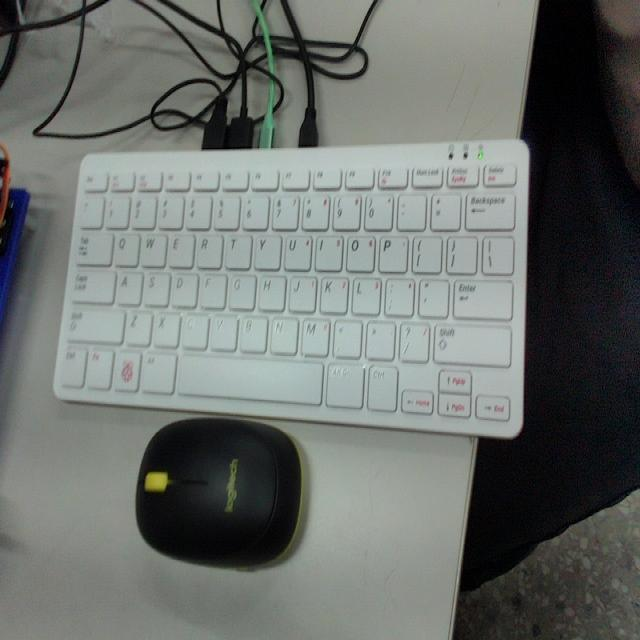keyboard: (50, 158, 524, 422)
